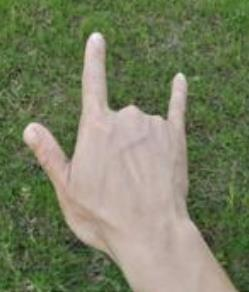back: (18, 25, 196, 258)
